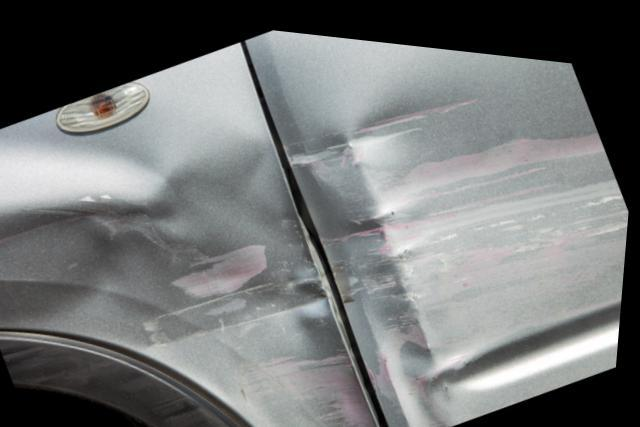dent: (287, 72, 631, 427), (0, 129, 389, 427)
